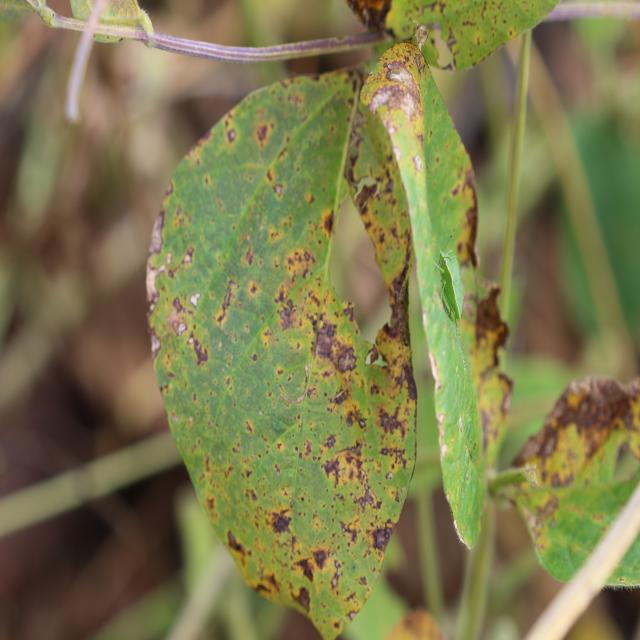Bacterial_Blight: (472, 276, 512, 365), (343, 120, 381, 205), (368, 78, 419, 129), (375, 312, 411, 382), (548, 422, 588, 479), (457, 165, 480, 263), (337, 1, 395, 38), (282, 247, 317, 284), (215, 277, 240, 326), (377, 407, 407, 442), (612, 438, 638, 477), (274, 380, 307, 409), (275, 297, 300, 335), (314, 323, 339, 359), (350, 484, 379, 513), (588, 376, 617, 404), (148, 210, 165, 255), (533, 494, 560, 522), (371, 523, 394, 554), (226, 529, 249, 559), (268, 508, 292, 535), (188, 334, 208, 365), (290, 584, 311, 613), (322, 455, 341, 487), (295, 556, 315, 583), (386, 59, 411, 80), (344, 407, 366, 430), (428, 348, 441, 384), (254, 122, 271, 148), (541, 431, 558, 457), (567, 389, 586, 410), (446, 26, 459, 55), (321, 210, 334, 235), (366, 344, 380, 366), (244, 245, 255, 267), (331, 389, 346, 405), (182, 245, 195, 263), (151, 334, 161, 355), (302, 439, 313, 458), (172, 296, 184, 312), (273, 183, 284, 198), (190, 292, 201, 307), (227, 127, 237, 142), (414, 155, 423, 171), (440, 442, 448, 458), (244, 420, 253, 434), (249, 282, 258, 295), (178, 322, 187, 335), (348, 610, 357, 622), (437, 412, 445, 425), (331, 575, 339, 588), (385, 471, 393, 480), (171, 414, 179, 423), (304, 363, 310, 373), (252, 353, 258, 362), (618, 577, 626, 583), (401, 486, 406, 494), (271, 331, 276, 338), (106, 34, 110, 39)
Soybean: (146, 70, 416, 638)
